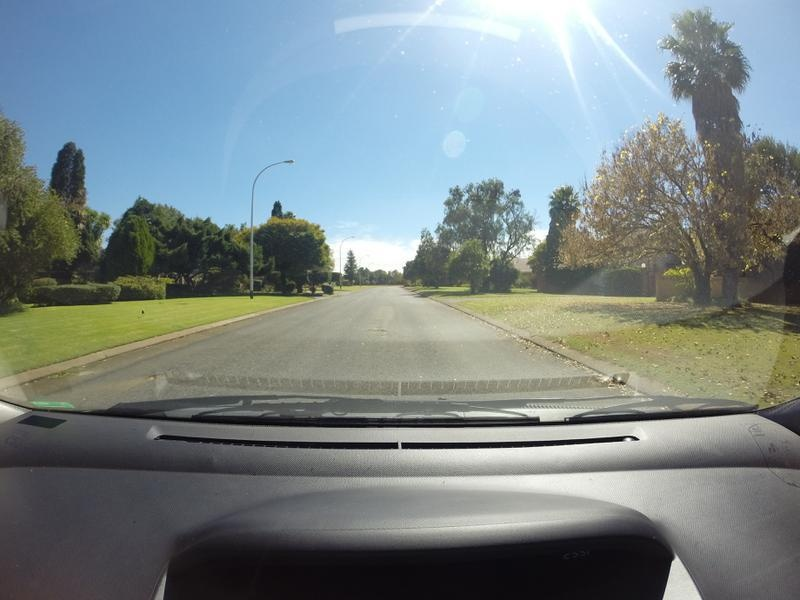pothole: (351, 322, 389, 344)
